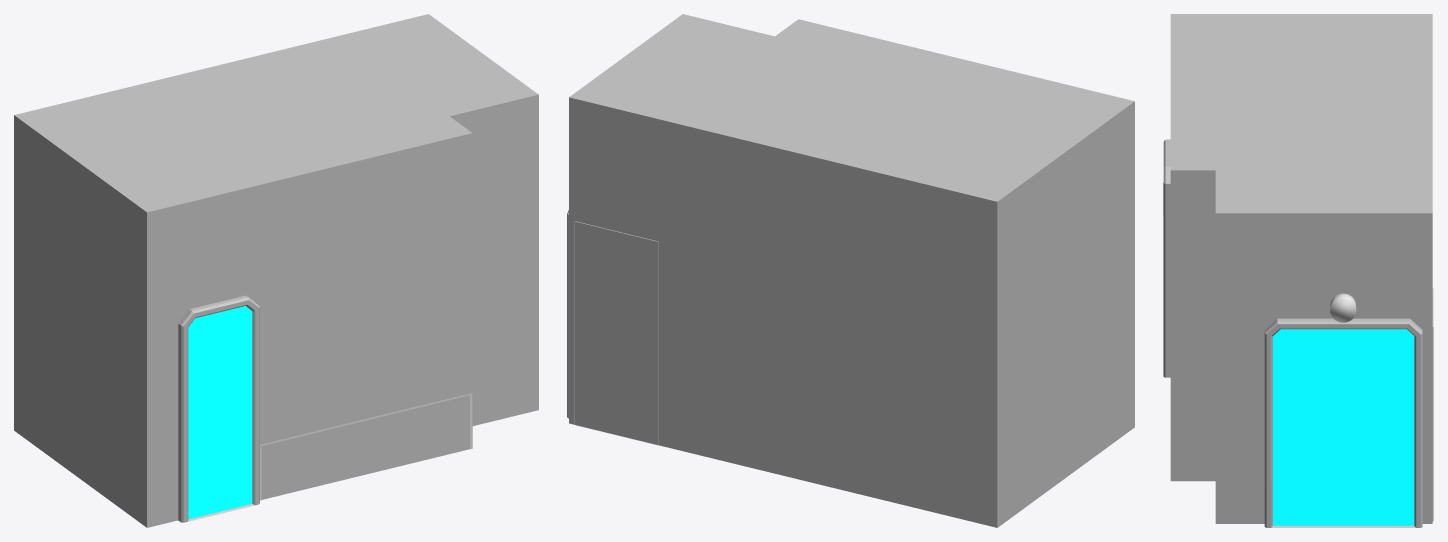
The model's file is PrisonCell_02.fbx.
3 renders of one model, left to right at view 1: azimuth 30°, elevation 25°; view 2: azimuth 150°, elevation 25°; view 3: azimuth 270°, elevation 25°, orthographic. The views are drawn at different scales.
Parts seen in each view (by area): view 1: walls proxy, door proxy.001, desk proxy; view 2: walls proxy; view 3: walls proxy, door proxy, door proxy.001, Cylinder.007, Cube.011.
Boxes of the visible parts, x1,y1,x2,y2 form: walls proxy: (14,14,538,527); door proxy.001: (178,295,259,522); desk proxy: (260,393,472,500); walls proxy: (569,14,1134,527); walls proxy: (1170,14,1432,523); door proxy: (1264,318,1422,527); door proxy.001: (1163,139,1170,377); Cylinder.007: (1330,293,1356,322); Cube.011: (1432,288,1433,521).
Size of the model in its own units: 591 by 330 by 419.
